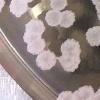white: (34, 49, 56, 71), (58, 54, 82, 74), (26, 37, 48, 57), (57, 8, 77, 29), (7, 0, 29, 17), (23, 19, 46, 34), (85, 25, 100, 48), (43, 9, 61, 28), (21, 32, 44, 44), (59, 37, 82, 49), (59, 46, 84, 57), (78, 84, 95, 100), (45, 0, 69, 11), (55, 90, 73, 100), (71, 90, 83, 100), (0, 0, 7, 15), (93, 86, 100, 100), (88, 0, 100, 8), (92, 4, 100, 13), (95, 11, 100, 21), (21, 0, 33, 4), (55, 55, 61, 61)
